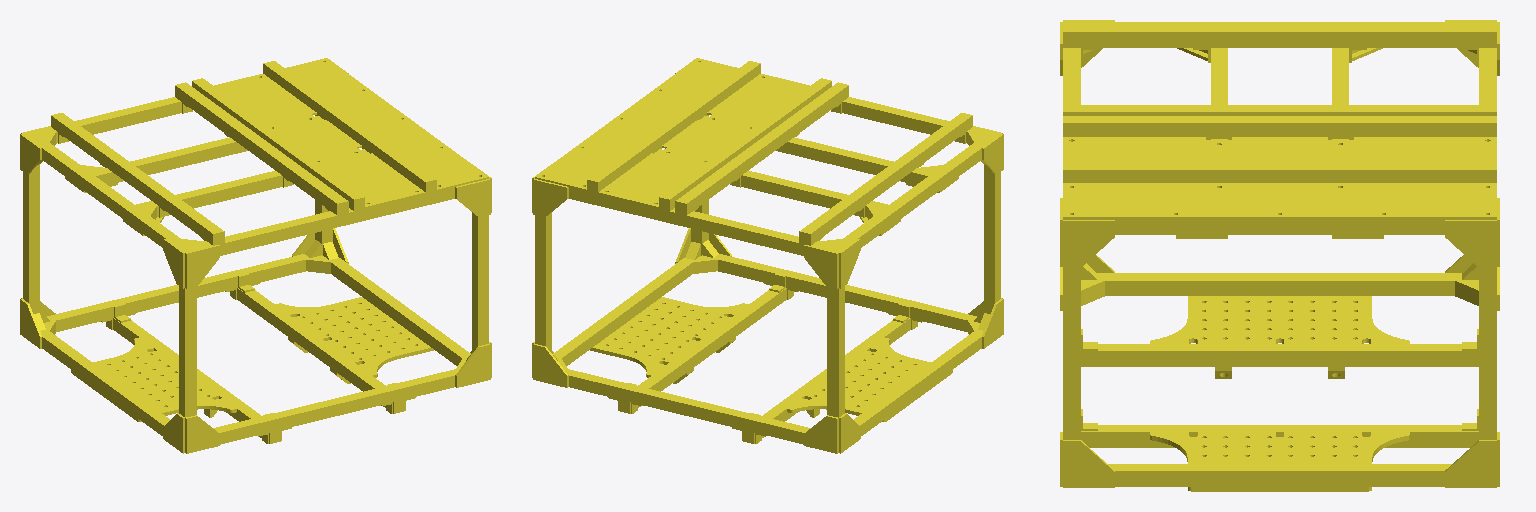
The robot description file, URDF, robot "franka_xarm7":
<?xml version="1.0" ?>
<robot name="franka_xarm7">
   <!--generated with mjcf_urdf_simple_converter (https://github.com/Yasu31/mjcf_urdf_simple_converter)-->
   <!--and modified by 55joe-->

   <link name="root">
      <inertial>
         <mass value="0"/>
         <inertia ixx="0.00" ixy="0.00" ixz="0.00" iyy="0.00" iyz="0.00" izz="0.00"/>
      </inertial>
   </link>
   <link name="link_x">
      <inertial>
         <mass value="0"/>
         <inertia ixx="0.00" ixy="0.00" ixz="0.00" iyy="0.00" iyz="0.00" izz="0.00"/>
      </inertial>
   </link>
   <link name="link_y">
      <inertial>
         <mass value="0"/>
         <inertia ixx="0.00" ixy="0.00" ixz="0.00" iyy="0.00" iyz="0.00" izz="0.00"/>
      </inertial>
   </link>
   <joint name="joint_x" type="fixed">
      <parent link="root"/>
      <child link="link_x"/>
      <axis xyz="1 0 0"/>
      <limit effort="100" lower="-20" upper="20" velocity="0.50"/>
      <dynamics damping="10.0" friction="10"/>
   </joint>
   <joint name="joint_y" type="fixed">
      <parent link="link_x"/>
      <child link="link_y"/>
      <axis xyz="0 1 0"/>
      <limit effort="100" lower="-20" upper="20" velocity="0.50"/>
      <dynamics damping="10.0" friction="10"/>
   </joint>
   <joint name="joint_theta" type="fixed">
      <parent link="link_y"/>
      <child link="base"/>
      <axis xyz="0 0 1"/>
      <dynamics damping="10.0" friction="1"/>
   </joint>

   <link name="base">
      <inertial>
         <origin xyz="0.0 0.0 0.0" rpy="0.0 0.0 0.0"/>
         <mass value="60"/>
         <inertia ixx="0.001" iyy="0.001" izz="0.001" ixy="0" ixz="0" iyz="0"/>
      </inertial>
      <visual name="base">
         <origin xyz="0.0144092103791508 7.158644489142947e-10 0.26972568940640185" rpy="0.0 -1.4011268661364618 3.141592653589793"/>
         <geometry>
            <mesh filename="internavi/assets/assets/base/base.stl"/>
         </geometry>
      </visual>
      <collision>
         <origin xyz="0.0144092103791508 7.158644489142947e-10 0.26972568940640185" rpy="0.0 -1.4011268661364618 3.141592653589793"/>
         <geometry>
            <mesh filename="internavi/assets/assets/base/base.stl"/>
         </geometry>
      </collision>
   </link>

   <!-- arm links -->
   <link name="panda_link0">
      <visual>
      <geometry>
         <mesh filename="internavi/assets/assets/franka/visual/link0.glb"/>
      </geometry>
      </visual>
      <collision>
      <geometry>
         <mesh filename="internavi/assets/assets/franka/collision/link0.stl"/>
      </geometry>
      </collision>
      <inertial>
      <origin rpy="0 0 0" xyz="-0.041018 -0.00014 0.049974"/>
      <mass value="0.629769"/>
      <inertia ixx="0.00315" ixy="8.2904e-07" ixz="0.00015" iyy="0.00388" iyz="8.2299e-06" izz="0.004285"/>
      </inertial>
   </link>
   <joint type="fixed" name="base2link_base_fixed">
      <parent link="base"/>
      <child link="panda_link0"/>
      <origin xyz="0.177 0.0 0.443" rpy="0.0 0.0 0.0"/>
   </joint>
   <link name="panda_link1">
      <visual>
         <geometry>
         <mesh filename="internavi/assets/assets/franka/visual/link1.glb"/>
         </geometry>
      </visual>
      <collision>
         <geometry>
         <mesh filename="internavi/assets/assets/franka/collision/link1.stl"/>
         </geometry>
      </collision>
      <inertial>
         <origin rpy="0 0 0" xyz="0.003875 0.002081 -0.04762"/>
         <mass value="4.970684"/>
         <inertia ixx="0.70337" ixy="-0.000139" ixz="0.006772" iyy="0.70661" iyz="0.019169" izz="0.009117"/>
      </inertial>
   </link>
   <joint name="panda_joint1" type="revolute">
      <safety_controller k_position="100.0" k_velocity="40.0" soft_lower_limit="-2.8973" soft_upper_limit="2.8973"/>
      <origin rpy="0 0 0" xyz="0 0 0.333"/>
      <parent link="panda_link0"/>
      <child link="panda_link1"/>
      <axis xyz="0 0 1"/>
      <limit effort="87" lower="-2.8973" upper="2.8973" velocity="2.1750"/>
      <dynamics D="1" K="7000" damping="0.003" friction="0.0" mu_coulomb="0" mu_viscous="16"/>
   </joint>
   <link name="panda_link2">
      <visual>
         <geometry>
         <mesh filename="internavi/assets/assets/franka/visual/link2.glb"/>
         </geometry>
      </visual>
      <collision>
         <geometry>
         <mesh filename="internavi/assets/assets/franka/collision/link2.stl"/>
         </geometry>
      </collision>
      <inertial>
         <origin rpy="0 0 0" xyz="-0.003141 -0.02872  0.003495"/>
         <mass value="0.646926"/>
         <inertia ixx="0.007962" ixy="-0.003925" ixz="0.010254" iyy="0.02811" iyz="0.000704" izz="0.025995"/>
      </inertial>
   </link>
   <joint name="panda_joint2" type="revolute">
      <safety_controller k_position="100.0" k_velocity="40.0" soft_lower_limit="-1.7628" soft_upper_limit="1.7628"/>
      <origin rpy="-1.5707963267948966 0 0" xyz="0 0 0"/>
      <parent link="panda_link1"/>
      <child link="panda_link2"/>
      <axis xyz="0 0 1"/>
      <limit effort="87" lower="-1.7628" upper="1.7628" velocity="2.1750"/>
      <dynamics D="1" K="7000" damping="0.003" friction="0.0" mu_coulomb="0" mu_viscous="16"/>
   </joint>
   <link name="panda_link3">
      <visual>
         <geometry>
         <mesh filename="internavi/assets/assets/franka/visual/link3.glb"/>
         </geometry>
      </visual>
      <collision>
         <geometry>
         <mesh filename="internavi/assets/assets/franka/collision/link3.stl"/>
         </geometry>
      </collision>
      <inertial>
         <origin rpy="0 0 0" xyz="2.7518e-02 3.9252e-02 -6.6502e-02"/>
         <mass value="3.228604"/>
         <inertia ixx="0.037242" ixy="-0.004761" ixz="-0.011396" iyy="0.036155" iyz="-0.012805" izz="0.01083"/>
      </inertial>
   </link>
   <joint name="panda_joint3" type="revolute">
      <safety_controller k_position="100.0" k_velocity="40.0" soft_lower_limit="-2.8973" soft_upper_limit="2.8973"/>
      <origin rpy="1.5707963267948966 0 0" xyz="0 -0.316 0"/>
      <parent link="panda_link2"/>
      <child link="panda_link3"/>
      <axis xyz="0 0 1"/>
      <limit effort="87" lower="-2.8973" upper="2.8973" velocity="2.1750"/>
      <dynamics D="1" K="7000" damping="0.003" friction="0.0" mu_coulomb="0" mu_viscous="16"/>
   </joint>
   <link name="panda_link4">
      <visual>
         <geometry>
         <mesh filename="internavi/assets/assets/franka/visual/link4.glb"/>
         </geometry>
      </visual>
      <collision>
         <geometry>
         <mesh filename="internavi/assets/assets/franka/collision/link4.stl"/>
         </geometry>
      </collision>
      <inertial>
         <origin rpy="0 0 0" xyz="-5.317e-02 1.04419e-01 2.7454e-02"/>
         <mass value="3.587895"/>
         <inertia ixx="0.025853" ixy="0.007796" ixz="-0.001332" iyy="0.019552" iyz="0.008641" izz="0.028323"/>
      </inertial>
   </link>
   <joint name="panda_joint4" type="revolute">
      <safety_controller k_position="100.0" k_velocity="40.0" soft_lower_limit="-3.0718" soft_upper_limit="-0.0698"/>
      <origin rpy="1.5707963267948966 0 0" xyz="0.0825 0 0"/>
      <parent link="panda_link3"/>
      <child link="panda_link4"/>
      <axis xyz="0 0 1"/>
      <limit effort="87" lower="-3.0718" upper="-0.0698" velocity="2.1750"/>
      <dynamics D="1" K="7000" damping="0.003" friction="0.0" mu_coulomb="0" mu_viscous="16"/>
   </joint>
   <link name="panda_link5">
      <visual>
         <geometry>
         <mesh filename="internavi/assets/assets/franka/visual/link5.glb"/>
         </geometry>
      </visual>
      <collision>
         <geometry>
         <mesh filename="internavi/assets/assets/franka/collision/link5.stl"/>
         </geometry>
      </collision>
      <inertial>
         <origin rpy="0 0 0" xyz="-1.1953e-02 4.1065e-02 -3.8437e-02"/>
         <mass value="1.225946"/>
         <inertia ixx="0.035549" ixy="-0.002117" ixz="-0.004037" iyy="0.029474" iyz="0.000229" izz="0.008627"/>
      </inertial>
   </link>
   <joint name="panda_joint5" type="revolute">
      <safety_controller k_position="100.0" k_velocity="40.0" soft_lower_limit="-2.8973" soft_upper_limit="2.8973"/>
      <origin rpy="-1.5707963267948966 0 0" xyz="-0.0825 0.384 0"/>
      <parent link="panda_link4"/>
      <child link="panda_link5"/>
      <axis xyz="0 0 1"/>
      <limit effort="12" lower="-2.8973" upper="2.8973" velocity="2.6100"/>
      <dynamics D="1" K="7000" damping="0.003" friction="0.0" mu_coulomb="0" mu_viscous="16"/>
   </joint>
   <link name="panda_link6">
      <visual>
         <geometry>
         <mesh filename="internavi/assets/assets/franka/visual/link6.glb"/>
         </geometry>
      </visual>
      <collision>
         <geometry>
         <mesh filename="internavi/assets/assets/franka/collision/link6.stl"/>
         </geometry>
      </collision>
      <inertial>
         <origin rpy="0 0 0" xyz="6.0149e-02 -1.4117e-02 -1.0517e-02"/>
         <mass value="1.666555"/>
         <inertia ixx="0.001964" ixy="0.000109" ixz="-0.001158" iyy="0.004354" iyz="0.000341" izz="0.005433"/>
      </inertial>
   </link>
   <joint name="panda_joint6" type="revolute">
      <safety_controller k_position="100.0" k_velocity="40.0" soft_lower_limit="-0.0175" soft_upper_limit="3.7525"/>
      <origin rpy="1.5707963267948966 0 0" xyz="0 0 0"/>
      <parent link="panda_link5"/>
      <child link="panda_link6"/>
      <axis xyz="0 0 1"/>
      <limit effort="12" lower="-0.0175" upper="3.7525" velocity="2.6100"/>
      <dynamics D="1" K="7000" damping="0.003" friction="0.0" mu_coulomb="0" mu_viscous="16"/>
   </joint>
   <link name="panda_link7">
      <visual>
         <geometry>
         <mesh filename="internavi/assets/assets/franka/visual/link7.glb"/>
         </geometry>
      </visual>
      <collision>
         <geometry>
         <mesh filename="internavi/assets/assets/franka/collision/link7.stl"/>
         </geometry>
      </collision>
      <inertial>
         <origin rpy="0 0 0" xyz="1.0517e-02 -4.252e-03 6.1597e-02"/>
         <mass value="0.735522"/>
         <inertia ixx="0.012516" ixy="-0.000428" ixz="-0.001196" iyy="0.010027" iyz="-0.000741" izz="0.004815"/>
      </inertial>
   </link>
   <joint name="panda_joint7" type="revolute">
      <safety_controller k_position="100.0" k_velocity="40.0" soft_lower_limit="-2.8973" soft_upper_limit="2.8973"/>
      <origin rpy="1.5707963267948966 0 0" xyz="0.088 0 0"/>
      <parent link="panda_link6"/>
      <child link="panda_link7"/>
      <axis xyz="0 0 1"/>
      <limit effort="12" lower="-2.8973" upper="2.8973" velocity="2.6100"/>
      <dynamics D="1" K="7000" damping="0.003" friction="0.0" mu_coulomb="0" mu_viscous="16"/>
   </joint>
   <link name="panda_link8"/>
   <joint name="panda_joint8" type="fixed">
      <origin rpy="0 0 0" xyz="0 0 0.107"/>
      <parent link="panda_link7"/>
      <child link="panda_link8"/>
   </joint>
   <joint name="panda_hand_joint" type="fixed">
      <parent link="panda_link8"/>
      <child link="panda_hand"/>
      <origin rpy="0 0 -0.7853981633974483" xyz="0 0 0"/>
   </joint>
   <link name="panda_hand">
      <visual>
         <geometry>
         <mesh filename="internavi/assets/assets/franka/visual/hand.glb"/>
         </geometry>
      </visual>
      <collision>
         <geometry>
         <mesh filename="internavi/assets/assets/franka/collision/hand.stl"/>
         </geometry>
      </collision>
      <inertial>
         <origin rpy="0 0 0" xyz="-0.01 0 0.03"/>
         <mass value="0.73"/>
         <inertia ixx="0.001" ixy="0" ixz="0" iyy="0.0025" iyz="0" izz="0.0017"/>
      </inertial>
   </link>
   <!-- Define the hand_tcp frame -->
   <link name="panda_hand_tcp"/>
   <joint name="panda_hand_tcp_joint" type="fixed">
      <origin rpy="0 0 0" xyz="0 0 0.1034"/>
      <parent link="panda_hand"/>
      <child link="panda_hand_tcp"/>
   </joint>
   <link name="panda_leftfinger">
      <visual>
         <geometry>
         <mesh filename="internavi/assets/assets/franka/visual/finger.glb"/>
         </geometry>
      </visual>
      <!-- screw mount -->
      <collision>
         <origin rpy="0 0 0" xyz="0 18.5e-3 11e-3"/>
         <geometry>
         <box size="22e-3 15e-3 20e-3"/>
         </geometry>
      </collision>
      <!-- cartriage sledge -->
      <collision>
         <origin rpy="0 0 0" xyz="0 6.8e-3 2.2e-3"/>
         <geometry>
         <box size="22e-3 8.8e-3 3.8e-3"/>
         </geometry>
      </collision>
      <!-- diagonal finger -->
      <collision>
         <origin rpy="0.5235987755982988 0 0" xyz="0 15.9e-3 28.35e-3"/>
         <geometry>
         <box size="17.5e-3 7e-3 23.5e-3"/>
         </geometry>
      </collision>
      <!-- rubber tip with which to grasp -->
      <collision>
         <origin rpy="0 0 0" xyz="0 7.58e-3 45.25e-3"/>
         <geometry>
         <box size="17.5e-3 15.2e-3 18.5e-3"/>
         </geometry>
      </collision>
      <inertial>
         <origin rpy="0 0 0" xyz="0 0 0"/>
         <mass value="0.015"/>
         <inertia ixx="2.3749999999999997e-06" ixy="0" ixz="0" iyy="2.3749999999999997e-06" iyz="0" izz="7.5e-07"/>
      </inertial>
   </link>
   <link name="panda_rightfinger">
      <visual>
         <origin rpy="0 0 3.141592653589793" xyz="0 0 0"/>
         <geometry>
         <mesh filename="internavi/assets/assets/franka/visual/finger.glb"/>
         </geometry>
      </visual>
      <!-- screw mount -->
      <collision>
         <origin rpy="0 0 0" xyz="0 -18.5e-3 11e-3"/>
         <geometry>
         <box size="22e-3 15e-3 20e-3"/>
         </geometry>
      </collision>
      <!-- cartriage sledge -->
      <collision>
         <origin rpy="0 0 0" xyz="0 -6.8e-3 2.2e-3"/>
         <geometry>
         <box size="22e-3 8.8e-3 3.8e-3"/>
         </geometry>
      </collision>
      <!-- diagonal finger -->
      <collision>
         <origin rpy="-0.5235987755982988 0 0" xyz="0 -15.9e-3 28.35e-3"/>
         <geometry>
         <box size="17.5e-3 7e-3 23.5e-3"/>
         </geometry>
      </collision>
      <!-- rubber tip with which to grasp -->
      <collision>
         <origin rpy="0 0 0" xyz="0 -7.58e-3 45.25e-3"/>
         <geometry>
         <box size="17.5e-3 15.2e-3 18.5e-3"/>
         </geometry>
      </collision>
      <inertial>
         <origin rpy="0 0 0" xyz="0 0 0"/>
         <mass value="0.015"/>
         <inertia ixx="2.3749999999999997e-06" ixy="0" ixz="0" iyy="2.3749999999999997e-06" iyz="0" izz="7.5e-07"/>
      </inertial>
   </link>
   <joint name="panda_finger_joint1" type="prismatic">
      <parent link="panda_hand"/>
      <child link="panda_leftfinger"/>
      <origin rpy="0 0 0" xyz="0 0 0.0584"/>
      <axis xyz="0 1 0"/>
      <limit effort="100" lower="0.0" upper="0.04" velocity="0.2"/>
      <dynamics damping="0.3"/>
   </joint>
   <joint name="panda_finger_joint2" type="prismatic">
      <parent link="panda_hand"/>
      <child link="panda_rightfinger"/>
      <origin rpy="0 0 0" xyz="0 0 0.0584"/>
      <axis xyz="0 -1 0"/>
      <limit effort="100" lower="0.0" upper="0.04" velocity="0.2"/>
      <mimic joint="panda_finger_joint1"/>
      <dynamics damping="0.3"/>
   </joint>

   <!--  camera mount-->
   <!-- <joint name="realsense_joint" type="fixed">
      <origin rpy="0 -1.5707 3.1415" xyz="0.035 0 0.036"/>
      <parent link="panda_hand"/>
      <child link="camera_base_link"/>
   </joint>
   <link name="camera_base_link"/>
   <joint name="camera_link_joint" type="fixed">
      <origin rpy="0 0 0" xyz="0 0.02 0.0115"/>
      <parent link="camera_base_link"/>
      <child link="camera_link"/>
   </joint>
   <link name="camera_link">
      <visual>
         <origin rpy="1.5707963267948966 0 1.5707963267948966" xyz="0 -0.02 0"/>
         <geometry>
         <mesh filename="realsense2_description/meshes/d415.stl"/>
         </geometry>
         <material name="aluminum"/>
      </visual>
      <collision>
         <origin rpy="0 0 0" xyz="-0.0125 -0.02 0"/>
         <geometry>
         <box size="0.02005 0.099 0.023"/>
         </geometry>
      </collision>
      <inertial>
         <mass value="0.564"/>
         <origin xyz="0 0 0"/>
         <inertia ixx="0.003881243" ixy="0.0" ixz="0.0" iyy="0.000498940" iyz="0.0" izz="0.003879257"/>
      </inertial>
   </link> -->

</robot>

--- What the picture shows (computed from the rendered views, not written in the file) ---
Views: 3 orthographic renders of the robot side by side, from view 1: azimuth 30°, elevation 25°; view 2: azimuth 150°, elevation 25°; view 3: azimuth 270°, elevation 25°.
Robot: franka_xarm7 — 17 links, 16 joints (7 revolute, 2 prismatic, 7 fixed); root link root; default pose: all joints at 0 but 1 set to mid-range because 0 is outside their limits (panda_joint4 = -1.57).
Links seen in each view (by area): view 1: base; view 2: base; view 3: base.
Link boxes in pixels (left/top/right/bottom): base: left=20, top=58, right=491, bottom=453; base: left=532, top=58, right=1003, bottom=453; base: left=1060, top=20, right=1499, bottom=491.
Bounding box of the posed robot: 0.548 × 0.508 × 0.405 m (x, y, z).
1 mesh visuals loaded from 11 distinct referenced files (1 binary STL); not drawn: 11 (reference not matched to a file when rendering).